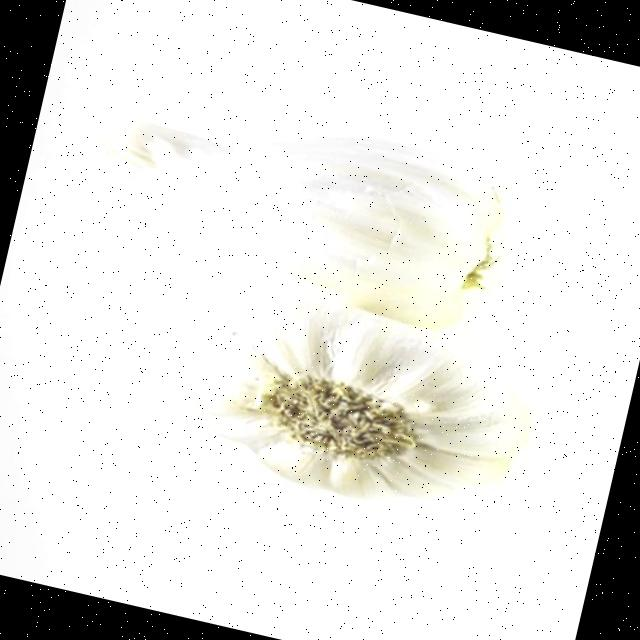garlic: (126, 118, 501, 327), (204, 301, 524, 496)
